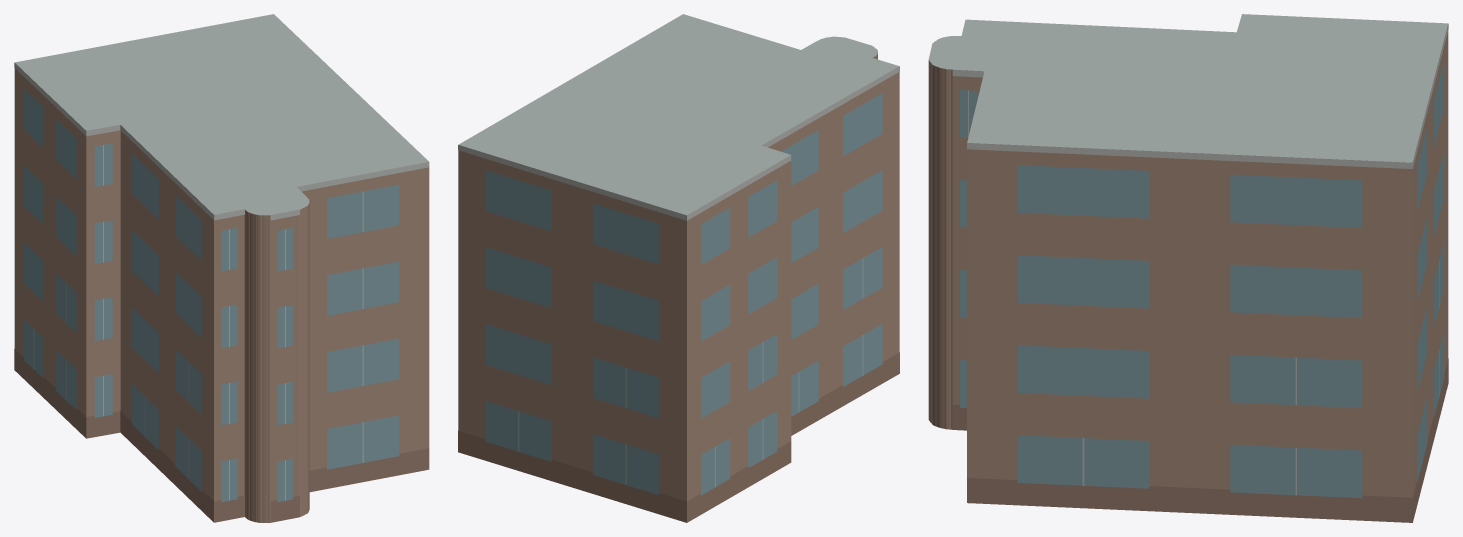
Rendered from survey-upis-32679572.glb.
The picture shows the model from 3 angles, left to right: view 1: azimuth 30°, elevation 25°; view 2: azimuth 150°, elevation 25°; view 3: azimuth 270°, elevation 25°; orthographic projection. The views are drawn at different scales.
Parts seen in each view (by area): view 1: survey-upis-32679572.tmp; view 2: survey-upis-32679572.tmp; view 3: survey-upis-32679572.tmp.
Part boxes in pixels (bbox=[...]): survey-upis-32679572.tmp: bbox=[14, 14, 429, 522]; survey-upis-32679572.tmp: bbox=[458, 14, 899, 522]; survey-upis-32679572.tmp: bbox=[928, 14, 1448, 522].
Bounding box in the file's own units: 12.24 × 13.8 × 18.06.
